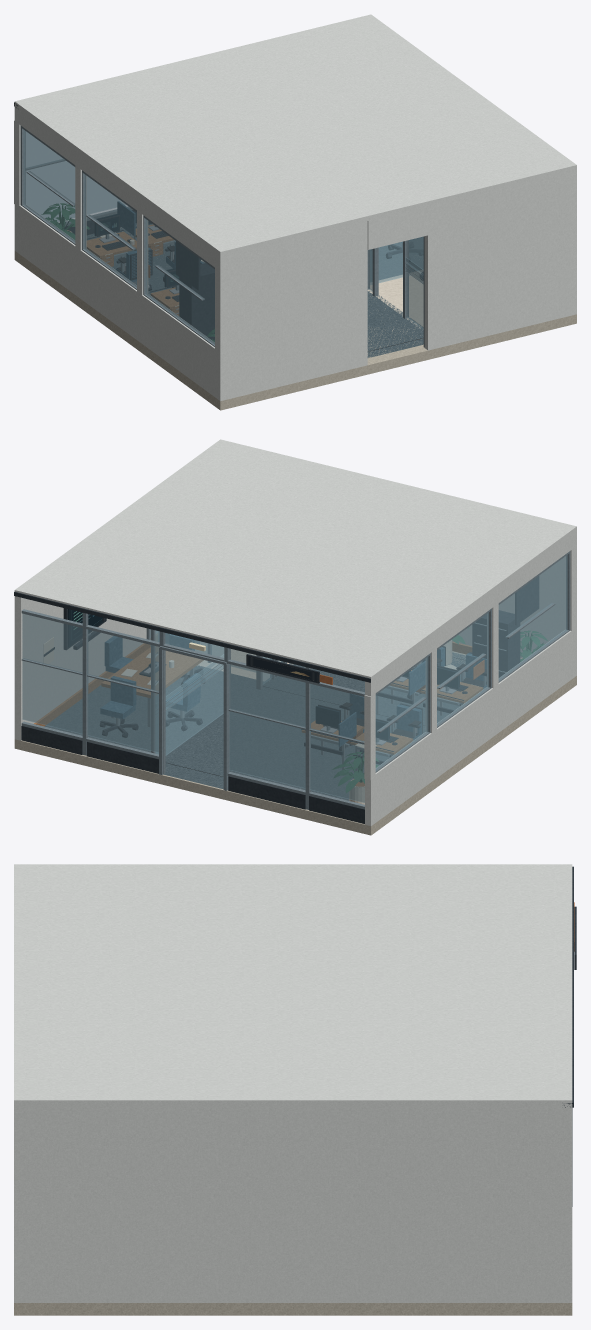
The picture shows the model from 3 angles, top to bottom: view 1: azimuth 30°, elevation 25°; view 2: azimuth 150°, elevation 25°; view 3: azimuth 270°, elevation 25°; orthographic projection. The views are drawn at different scales.
Visible parts, largest first — view 1: VIS_Office_Floor_paint, VIS_Office_Floor_glass, VIS_Office_Floor_limestone, VIS_Office_Floor_steel, VIS_Office_Floor_carpet, VIS_Office_Floor_graphite, VIS_Office_Floor_ceramic, VIS_Office_Floor_oak, VIS_Office_Floor_fabric, VIS_Office_Floor_plant; view 2: VIS_Office_Floor_paint, VIS_Office_Floor_glass, VIS_Office_Floor_carpet, VIS_Office_Floor_steel, VIS_Office_Floor_graphite, VIS_Office_Floor_limestone, VIS_Office_Floor_fabric, VIS_Office_Floor_oak, VIS_Office_Floor_plant, VIS_Office_Floor_screen, VIS_Office_Floor_ceramic, VIS_Office_Floor_rubber (+1 smaller); view 3: VIS_Office_Floor_paint, VIS_Office_Floor_limestone, VIS_Office_Floor_graphite.
Boxes of the visible parts, bbox=[...] form: VIS_Office_Floor_paint: bbox=[14, 14, 576, 401]; VIS_Office_Floor_glass: bbox=[23, 130, 423, 344]; VIS_Office_Floor_limestone: bbox=[14, 231, 576, 410]; VIS_Office_Floor_steel: bbox=[20, 125, 424, 347]; VIS_Office_Floor_carpet: bbox=[87, 223, 423, 357]; VIS_Office_Floor_graphite: bbox=[14, 102, 423, 339]; VIS_Office_Floor_ceramic: bbox=[130, 240, 423, 328]; VIS_Office_Floor_oak: bbox=[87, 224, 178, 315]; VIS_Office_Floor_fabric: bbox=[116, 201, 417, 281]; VIS_Office_Floor_plant: bbox=[42, 203, 214, 341]; VIS_Office_Floor_paint: bbox=[14, 439, 576, 825]; VIS_Office_Floor_glass: bbox=[22, 555, 567, 802]; VIS_Office_Floor_carpet: bbox=[44, 652, 465, 809]; VIS_Office_Floor_steel: bbox=[21, 551, 570, 809]; VIS_Office_Floor_graphite: bbox=[14, 576, 538, 823]; VIS_Office_Floor_limestone: bbox=[14, 641, 576, 835]; VIS_Office_Floor_fabric: bbox=[100, 634, 486, 746]; VIS_Office_Floor_oak: bbox=[34, 634, 482, 754]; VIS_Office_Floor_plant: bbox=[332, 627, 547, 792]; VIS_Office_Floor_screen: bbox=[68, 609, 458, 739]; VIS_Office_Floor_ceramic: bbox=[169, 640, 451, 804]; VIS_Office_Floor_rubber: bbox=[167, 658, 486, 776]; VIS_Office_Floor_paint: bbox=[14, 864, 572, 1302]; VIS_Office_Floor_limestone: bbox=[14, 1303, 572, 1315]; VIS_Office_Floor_graphite: bbox=[564, 866, 576, 1107].
Bounding box in the file's own units: 8 × 3.4 × 8.07.
19 materials, 19 textured.
